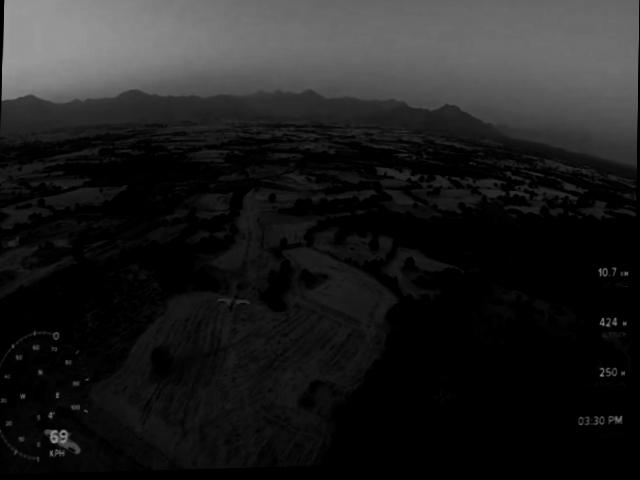hedef: (213, 293, 257, 316)
